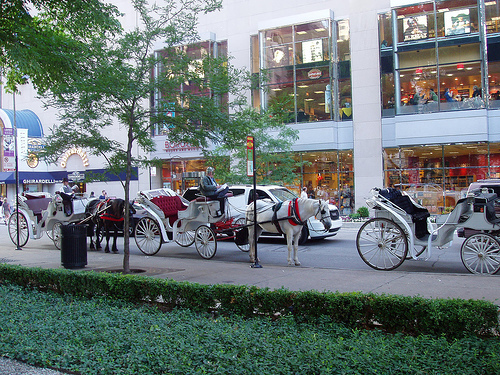horse: (244, 186, 334, 269)
